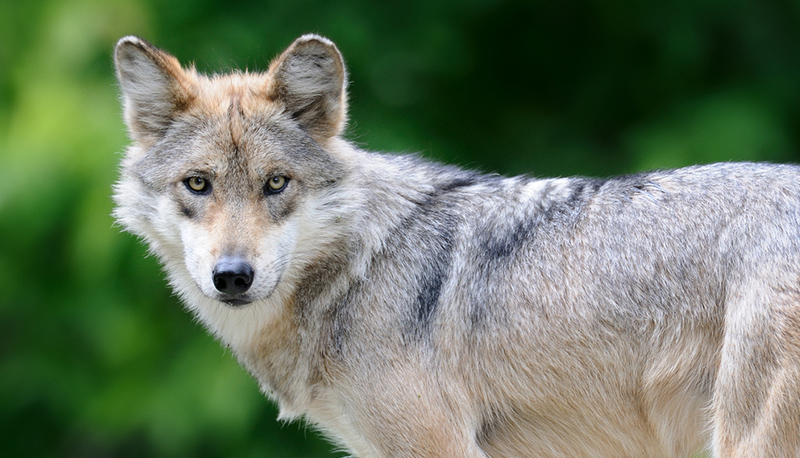Lobo: (93, 18, 771, 435)
